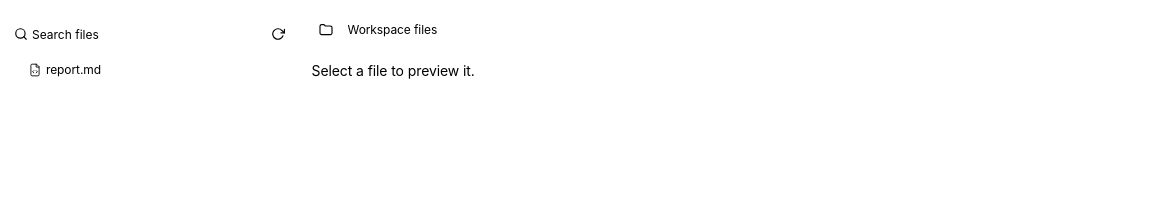
workspace source preview limits › shows explicit offline Markdown fallback while keeping source and actions usable
Click the text with class "workspace-files__name": (74, 69) x1=46 y1=62 x2=101 y2=77
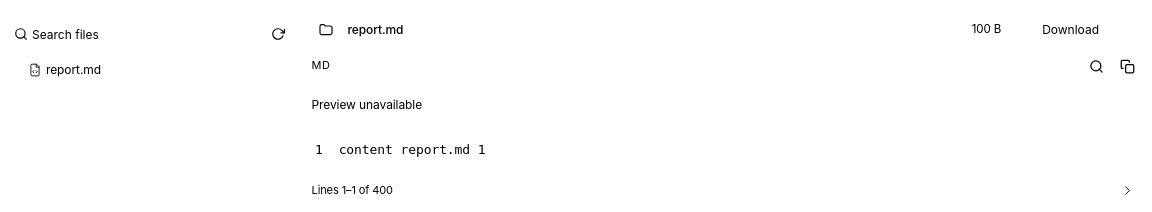
expect the message with class "workspace-file__status" reads "Preview unavailable": met, box x1=312 y1=97 x2=422 y2=112
expect the element with class "workspace-file__source" is shown: met, box x1=315 y1=142 x2=486 y2=157
expect the element with class "workspace-resource-actions" is shown: met, box x1=1009 y1=16 x2=1140 y2=44
